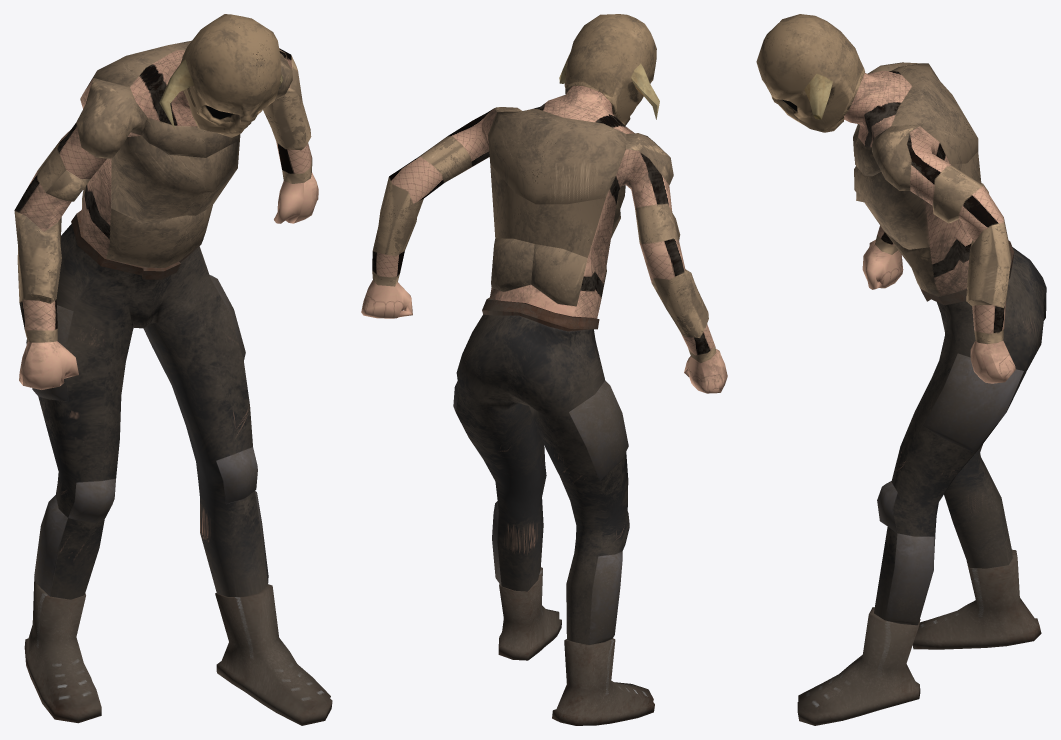
Rendered from Anim_cogerobjeto_npc1.0022.obj.
The picture shows the model from 3 angles, left to right: view 1: azimuth 30°, elevation 25°; view 2: azimuth 150°, elevation 25°; view 3: azimuth 270°, elevation 25°; orthographic projection. The views are drawn at different scales.
Visible parts, largest first — view 1: NPC2; view 2: NPC2; view 3: NPC2.
Boxes of the visible parts, box(x1,y1,x2,y2) form: NPC2: box(14, 14, 332, 725); NPC2: box(361, 14, 727, 725); NPC2: box(756, 14, 1046, 725).
Bounding box in the file's own units: 4.51 × 8.84 × 3.49.
